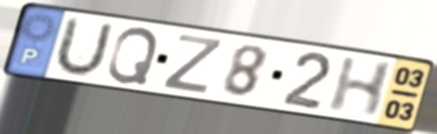2: (280, 50, 334, 113)
8: (221, 43, 269, 99)
H: (324, 55, 398, 119)
Q: (104, 25, 161, 87)
U: (49, 14, 117, 79)
Z: (159, 32, 226, 97)
